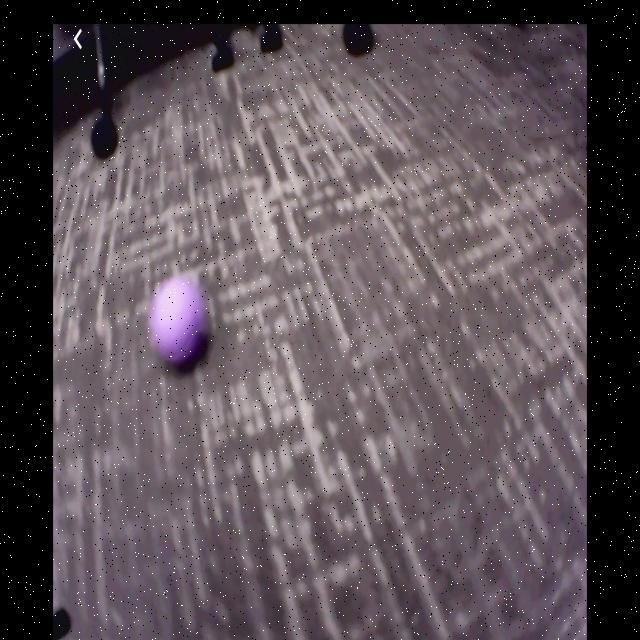ball: (151, 280, 207, 363)
